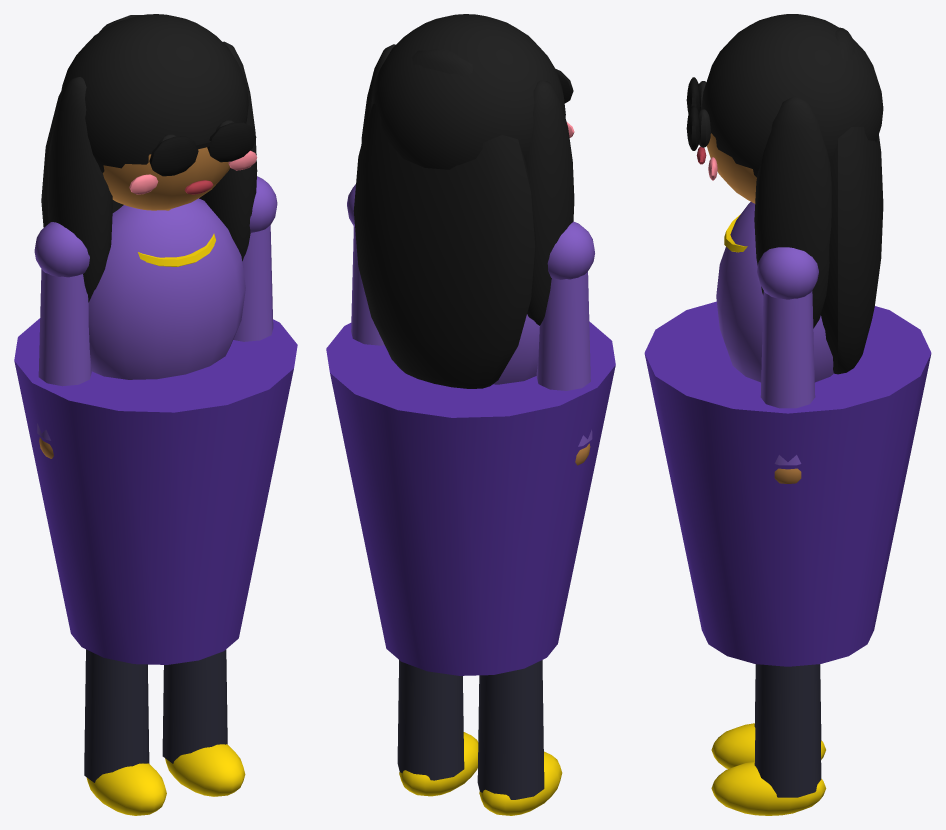
File: avigail_person.glb
The picture shows the model from 3 angles, left to right: view 1: azimuth 30°, elevation 25°; view 2: azimuth 150°, elevation 25°; view 3: azimuth 270°, elevation 25°; orthographic projection. The views are drawn at different scales.
Parts seen in each view (by area): view 1: Body.005, Leg_R.005, Leg_L.005, Arm_R.005, Arm_L.005; view 2: Body.005, Leg_R.005, Leg_L.005, Arm_R.005, Arm_L.005; view 3: Body.005, Leg_L.005, Arm_L.005, Leg_R.005.
Boxes of the visible parts, x1,y1,x2,y2 form: Body.005: (14, 14, 297, 664); Leg_R.005: (84, 649, 166, 815); Leg_L.005: (162, 649, 245, 796); Arm_R.005: (34, 222, 91, 458); Arm_L.005: (233, 176, 277, 341); Body.005: (326, 14, 615, 675); Leg_R.005: (477, 660, 562, 815); Leg_L.005: (397, 660, 478, 796); Arm_R.005: (536, 221, 594, 465); Arm_L.005: (347, 184, 384, 345); Body.005: (644, 14, 931, 666); Leg_L.005: (711, 664, 826, 815); Arm_L.005: (757, 247, 818, 483); Leg_R.005: (711, 664, 825, 768).
Bounding box in the file's own units: 0.6 × 1.78 × 0.6.
